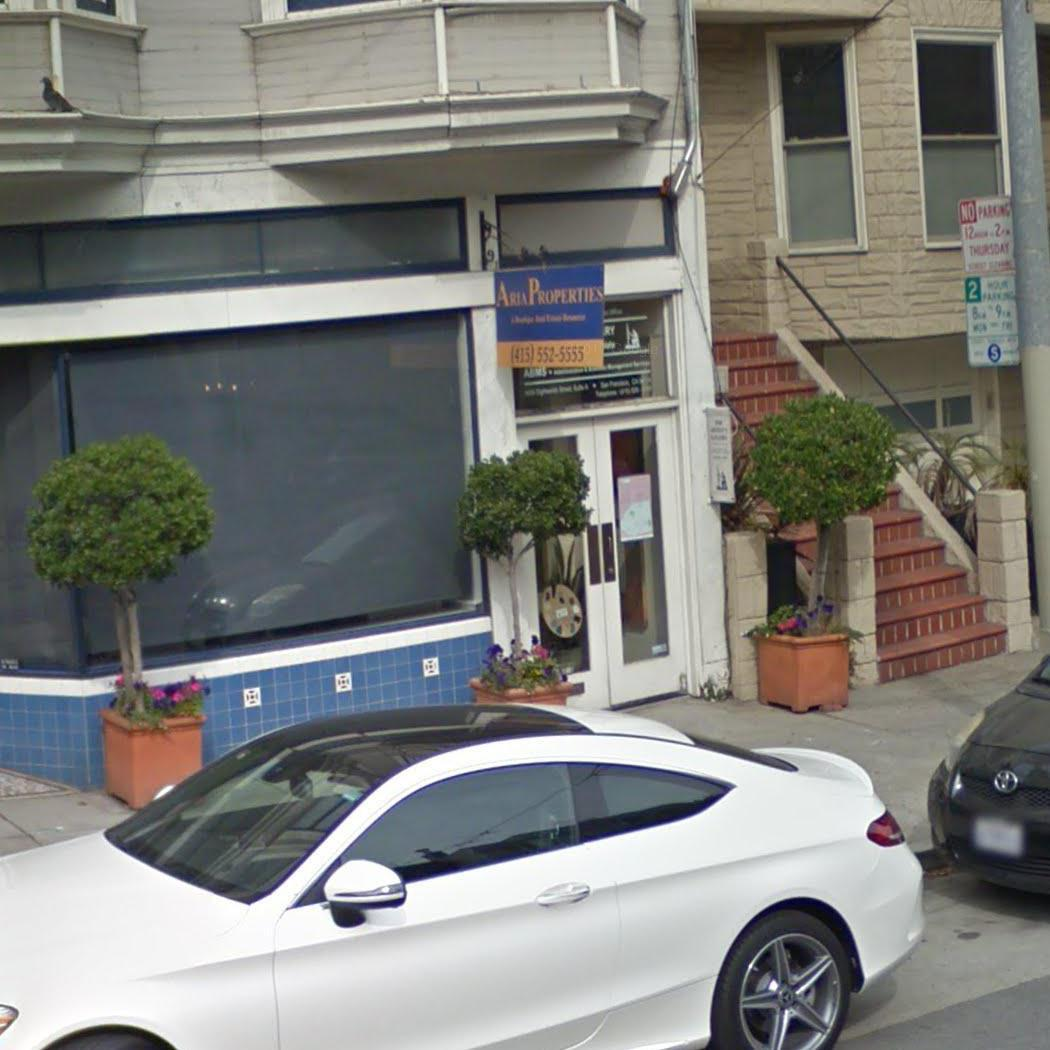2 Hour Parking: (963, 275, 1019, 366)
No Parking: (956, 195, 1017, 275)
